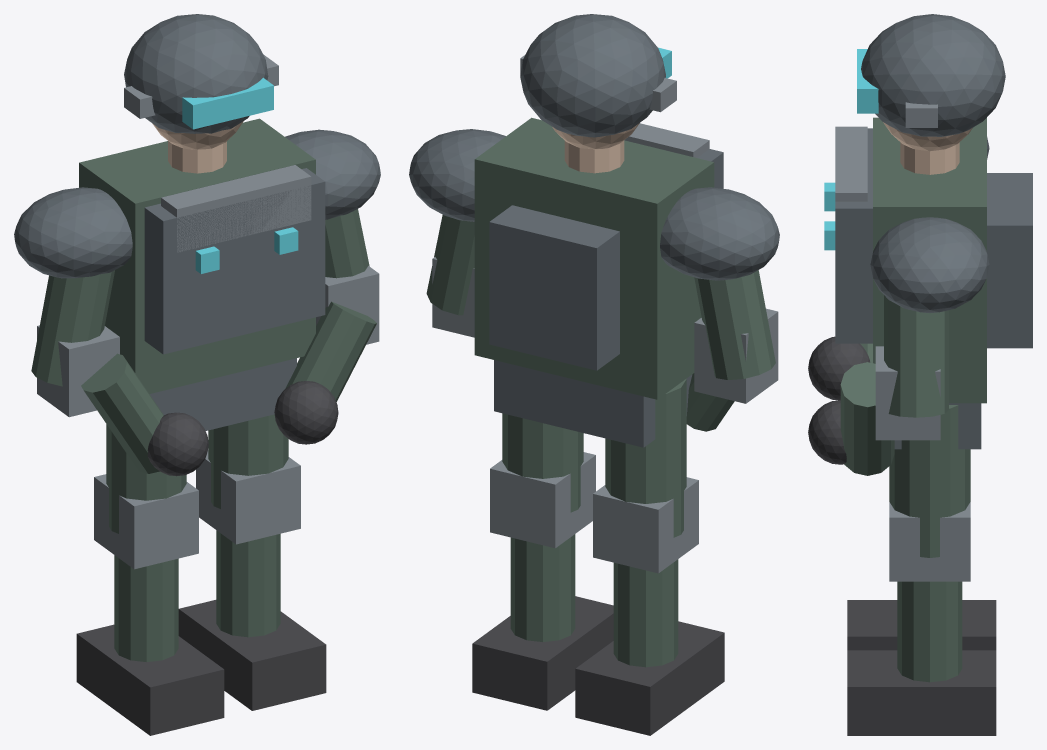
The model's file is personaje_navegante.glb.
3 renders of one model, left to right at view 1: azimuth 30°, elevation 25°; view 2: azimuth 150°, elevation 25°; view 3: azimuth 270°, elevation 25°, orthographic.
Parts seen in each view (by area): view 1: Pechera, Torso, Casco, Bota izquierda, Bota derecha, Hombrera izquierda, Placa pecho, Rodillera izquierda, Rodillera derecha, Pierna inferior derecha, Pierna inferior izquierda, Cintura (+17 smaller); view 2: Torso, Mochila, Casco, Bota izquierda, Bota derecha, Hombrera izquierda, Cintura, Pierna superior izquierda, Rodillera izquierda, Rodillera derecha, Pierna inferior derecha, Pierna inferior izquierda (+11 smaller); view 3: Torso, Casco, Bota derecha, Hombrera derecha, Mochila, Pierna superior derecha, Brazo derecho, Pierna inferior derecha, Pechera, Rodillera derecha, Bota izquierda, Antebrazo derecho (+9 smaller).
Boxes of the visible parts, x1,y1,x2,y2 form: Pechera: [144, 168, 325, 354]; Torso: [79, 118, 315, 393]; Casco: [124, 14, 268, 133]; Bota izquierda: [76, 624, 224, 735]; Bota derecha: [178, 600, 326, 710]; Hombrera izquierda: [14, 187, 132, 278]; Placa pecho: [161, 165, 311, 252]; Rodillera izquierda: [94, 474, 198, 569]; Rodillera derecha: [196, 449, 300, 544]; Pierna inferior derecha: [216, 530, 280, 637]; Pierna inferior izquierda: [114, 555, 178, 661]; Cintura: [149, 358, 296, 430]; Torso: [474, 117, 714, 399]; Mochila: [489, 205, 619, 370]; Casco: [520, 14, 665, 137]; Bota izquierda: [575, 621, 724, 735]; Bota derecha: [472, 596, 613, 710]; Hombrera izquierda: [660, 187, 779, 280]; Cintura: [494, 360, 692, 447]; Pierna superior izquierda: [605, 379, 686, 537]; Rodillera izquierda: [593, 477, 698, 573]; Rodillera derecha: [490, 452, 595, 548]; Pierna inferior derecha: [510, 534, 575, 641]; Pierna inferior izquierda: [613, 559, 678, 667]; Torso: [873, 117, 986, 403]; Casco: [861, 14, 1005, 136]; Bota derecha: [847, 650, 996, 735]; Hombrera derecha: [870, 217, 989, 312]; Mochila: [987, 173, 1032, 348]; Pierna superior derecha: [889, 405, 970, 557]; Brazo derecho: [884, 295, 948, 417]; Pierna inferior derecha: [897, 581, 962, 682]; Pechera: [835, 128, 872, 343]; Rodillera derecha: [889, 502, 970, 581]; Bota izquierda: [847, 600, 996, 650]; Antebrazo derecho: [840, 362, 894, 475].
Bounding box in the file's own units: 1.53 × 2.73 × 0.83.
